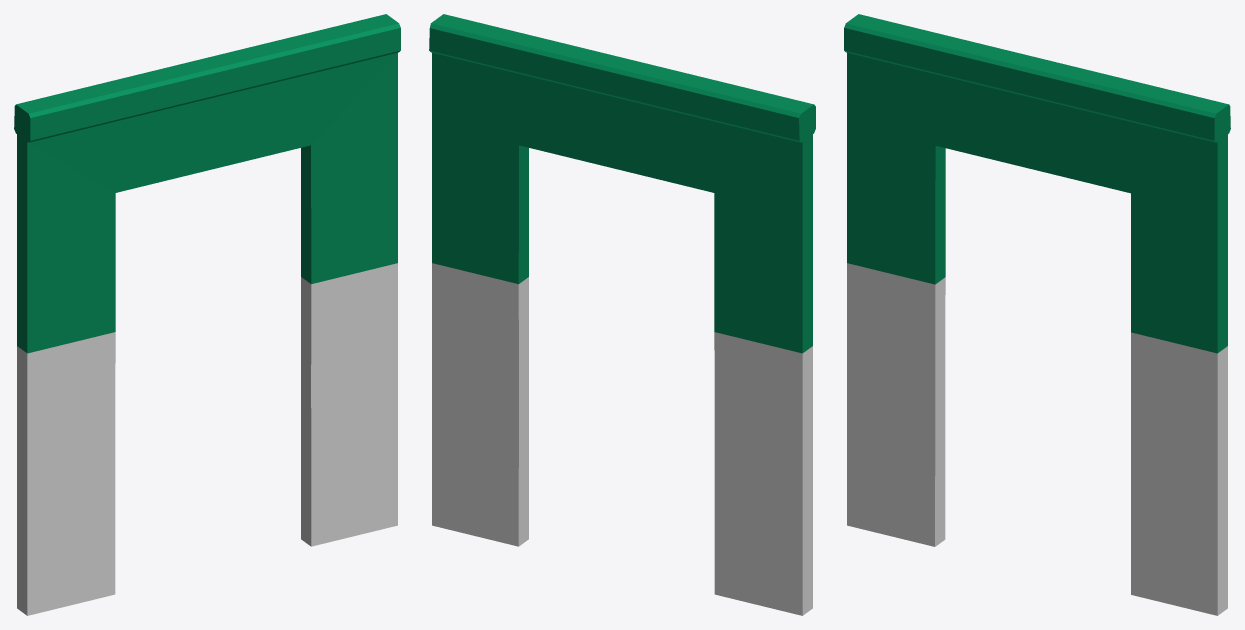
The model's file is wall_32.fbx.
3 renders of one model, left to right at view 1: azimuth 30°, elevation 25°; view 2: azimuth 150°, elevation 25°; view 3: azimuth 330°, elevation 25°, orthographic.
Visible parts, largest first — view 1: WALL_5.004; view 2: WALL_5.004; view 3: WALL_5.004.
Part boxes in pixels (x1,y1,x2,y2): WALL_5.004: [14, 14, 400, 615]; WALL_5.004: [429, 14, 815, 615]; WALL_5.004: [844, 14, 1230, 615].
Size of the model in its own units: 3.73 by 4.84 by 0.2831.
